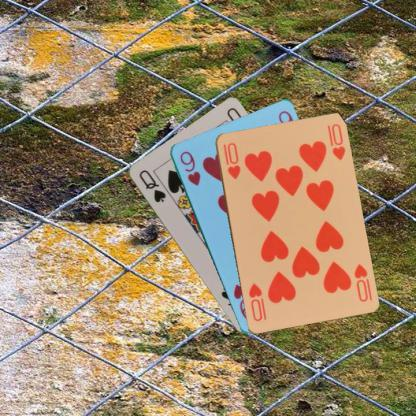10h: (220, 140, 242, 180), (351, 260, 369, 304)
9h: (176, 148, 202, 187)
Qs: (136, 167, 167, 204)
